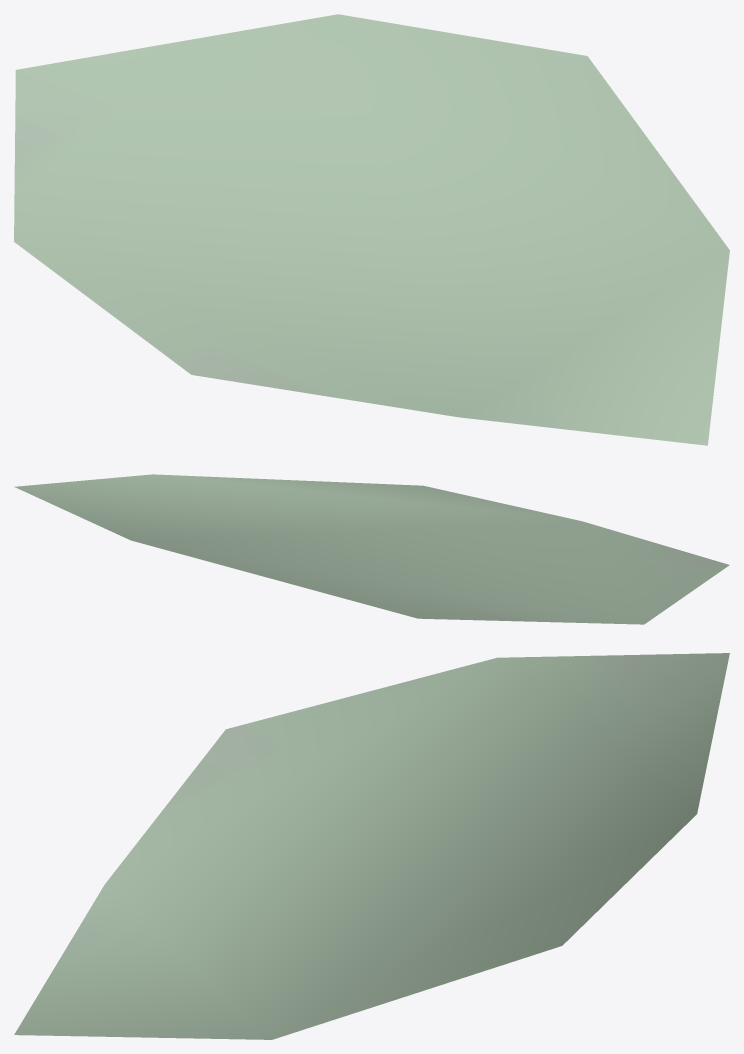
Rendered from TROLLHOLE02_HOLECAP204.fbx.
The picture shows the model from 3 angles, top to bottom: view 1: azimuth 30°, elevation 25°; view 2: azimuth 150°, elevation 25°; view 3: azimuth 270°, elevation 25°; orthographic projection. The views are drawn at different scales.
Parts seen in each view (by area): view 1: TROLLHOLE02_HOLECAP204; view 2: TROLLHOLE02_HOLECAP204; view 3: TROLLHOLE02_HOLECAP204.
Part boxes in pixels (x1=…): TROLLHOLE02_HOLECAP204: x1=14, y1=14, x2=729, y2=445; TROLLHOLE02_HOLECAP204: x1=14, y1=474, x2=729, y2=624; TROLLHOLE02_HOLECAP204: x1=14, y1=653, x2=729, y2=1039.
Bounding box in the file's own units: 9920 × 3197 × 9878.
1 material, 1 textured.
